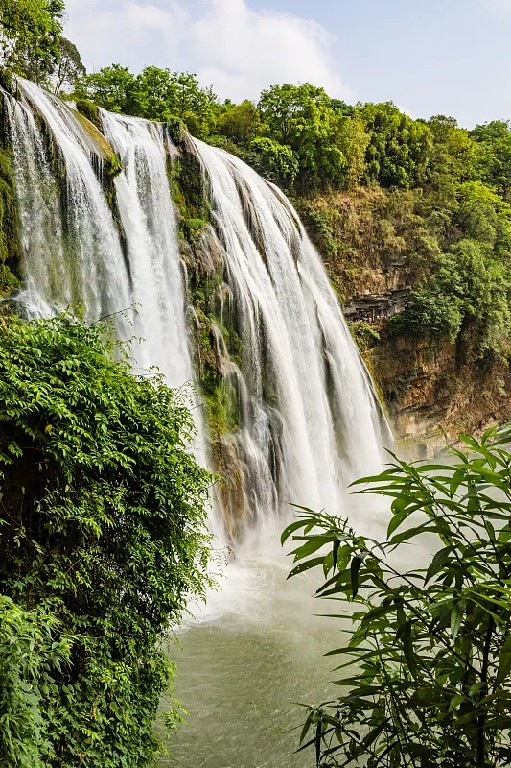Huangguoshu: (9, 75, 394, 585)
